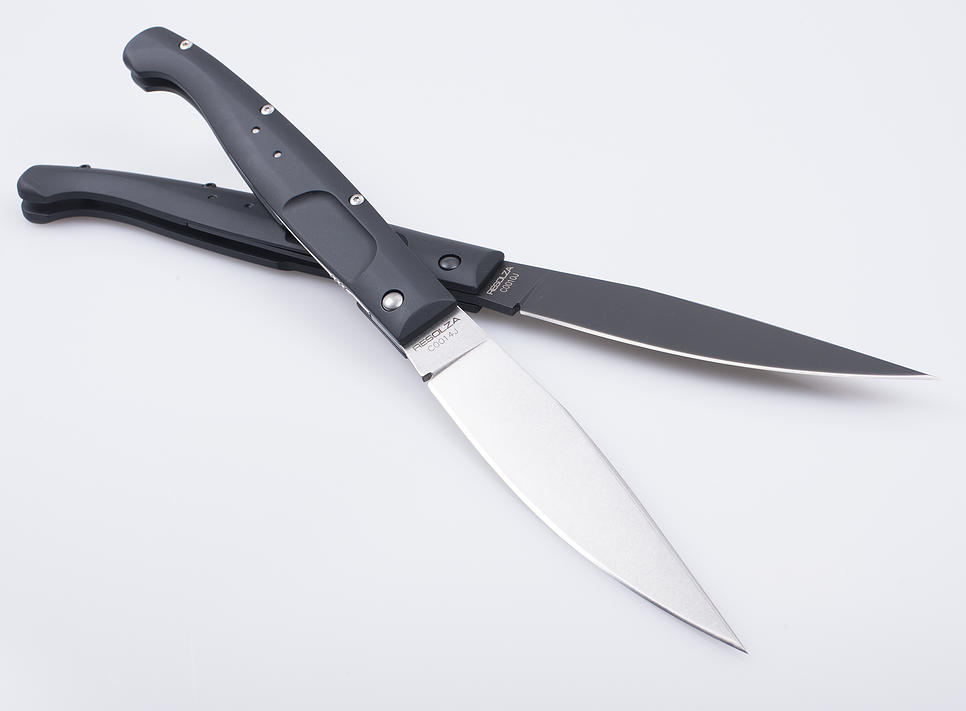knife: (395, 297, 762, 664), (462, 254, 936, 385)
